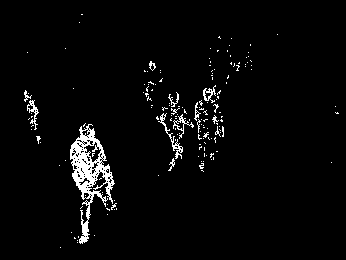person: (68, 120, 119, 244), (191, 85, 229, 173), (155, 89, 194, 170)
